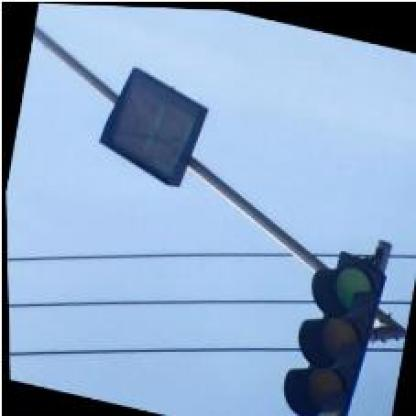green: (271, 241, 392, 415)
